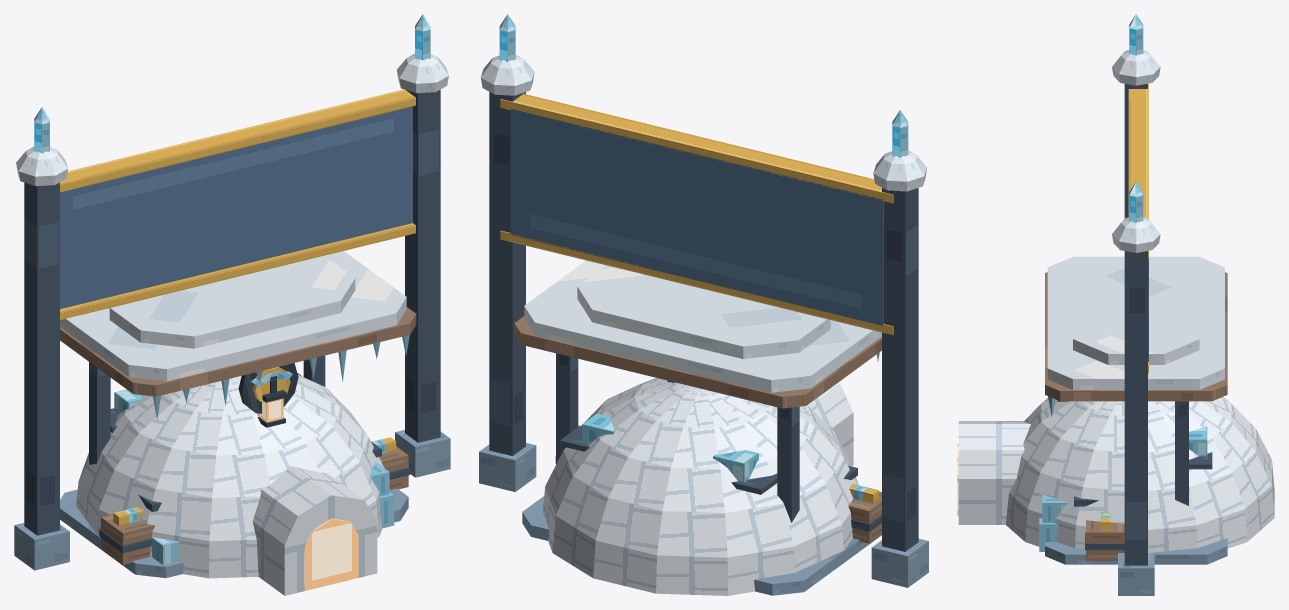
The model's file is frozen-props.glb.
3 renders of one model, left to right at view 1: azimuth 30°, elevation 25°; view 2: azimuth 150°, elevation 25°; view 3: azimuth 270°, elevation 25°, orthographic. The views are drawn at different scales.
Visible parts, largest first — view 1: Board, Dome, RoofSnowTop, Upright, RoofSnow, Upright.001, Tunnel, BoardTrim, Roof, BoardTrimLow, Doorway, Deck (+11 smaller); view 2: Dome, Board, RoofSnowTop, Upright, RoofSnow, Upright.001, BoardTrim, Roof, BoardTrimLow, Deck, Post, UprightFoot.001 (+11 smaller); view 3: Dome, RoofSnow, RoofSnowTop, Upright.001, Tunnel, Roof, BoardTrim, Deck, Post.001, UprightFoot.001, UprightSnow.001, UprightSnow (+7 smaller).
Part boxes in pixels (left/top/right/bottom): Board: left=60, top=106, right=412, bottom=308; Dome: left=76, top=375, right=384, bottom=578; RoofSnowTop: left=109, top=255, right=355, bottom=348; Upright: left=24, top=182, right=59, bottom=535; RoofSnow: left=60, top=251, right=406, bottom=381; Upright.001: left=405, top=89, right=440, bottom=442; Tunnel: left=252, top=466, right=377, bottom=595; BoardTrim: left=60, top=89, right=415, bottom=192; Roof: left=60, top=307, right=416, bottom=396; BoardTrimLow: left=60, top=223, right=415, bottom=319; Doorway: left=304, top=518, right=358, bottom=590; Deck: left=60, top=488, right=408, bottom=577; Dome: left=543, top=378, right=858, bottom=595; Board: left=510, top=109, right=883, bottom=325; RoofSnowTop: left=577, top=265, right=830, bottom=358; Upright: left=882, top=188, right=918, bottom=551; RoofSnow: left=524, top=260, right=881, bottom=392; Upright.001: left=489, top=92, right=525, bottom=455; BoardTrim: left=500, top=93, right=893, bottom=203; Roof: left=514, top=316, right=881, bottom=408; BoardTrimLow: left=500, top=230, right=893, bottom=334; Deck: left=522, top=496, right=881, bottom=595; Post: left=777, top=406, right=799, bottom=522; UprightFoot.001: left=479, top=443, right=536, bottom=491; Dome: left=1005, top=396, right=1274, bottom=552; RoofSnow: left=1047, top=256, right=1224, bottom=389; RoofSnowTop: left=1073, top=259, right=1199, bottom=364; Upright.001: left=1124, top=251, right=1147, bottom=565; Tunnel: left=958, top=421, right=1030, bottom=524; Roof: left=1045, top=272, right=1227, bottom=401; BoardTrim: left=1128, top=84, right=1148, bottom=258; Deck: left=1045, top=538, right=1227, bottom=564; Post.001: left=1175, top=401, right=1188, bottom=505; UprightFoot.001: left=1118, top=553, right=1154, bottom=595; UprightSnow.001: left=1112, top=217, right=1160, bottom=252; UprightSnow: left=1112, top=50, right=1160, bottom=85.
Bounding box in the file's own units: 8.76 × 8.85 × 6.26.
2 materials, 2 textured.
